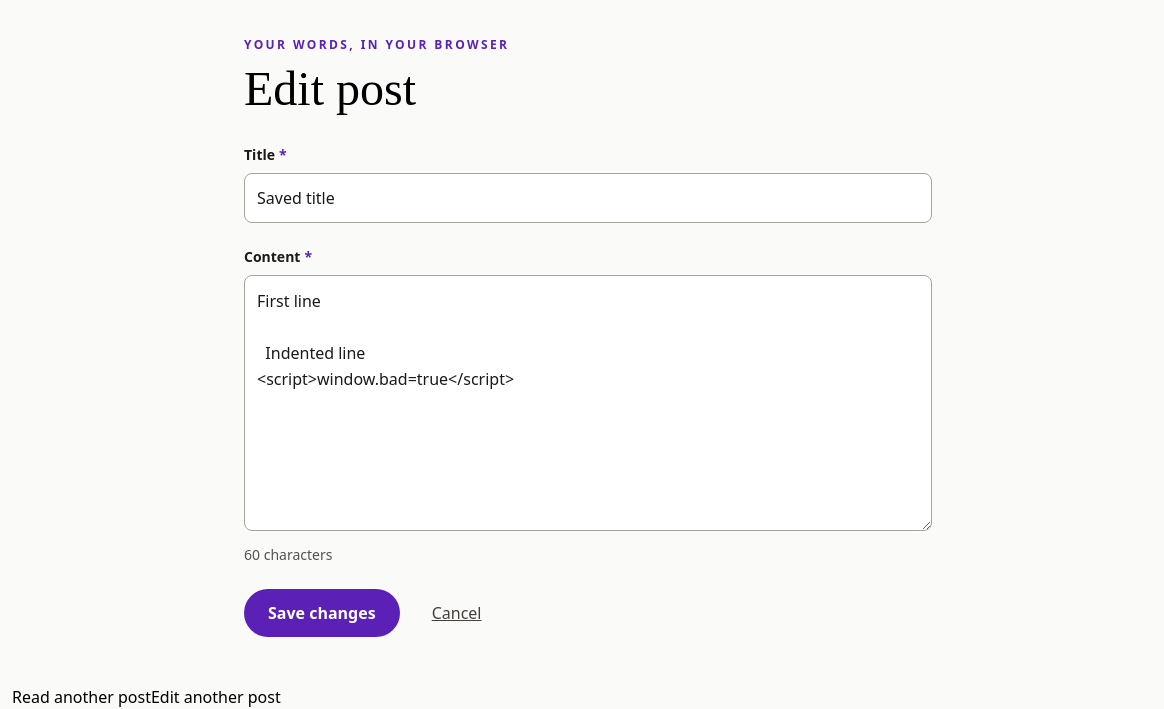
Test case: same-page route ID refresh › refreshes the editor target to ready and discards old draft/validation without writes
The image size is (1164, 709).
Clear the field labelled "Title*" at point(588, 198), box [244,173,932,223]
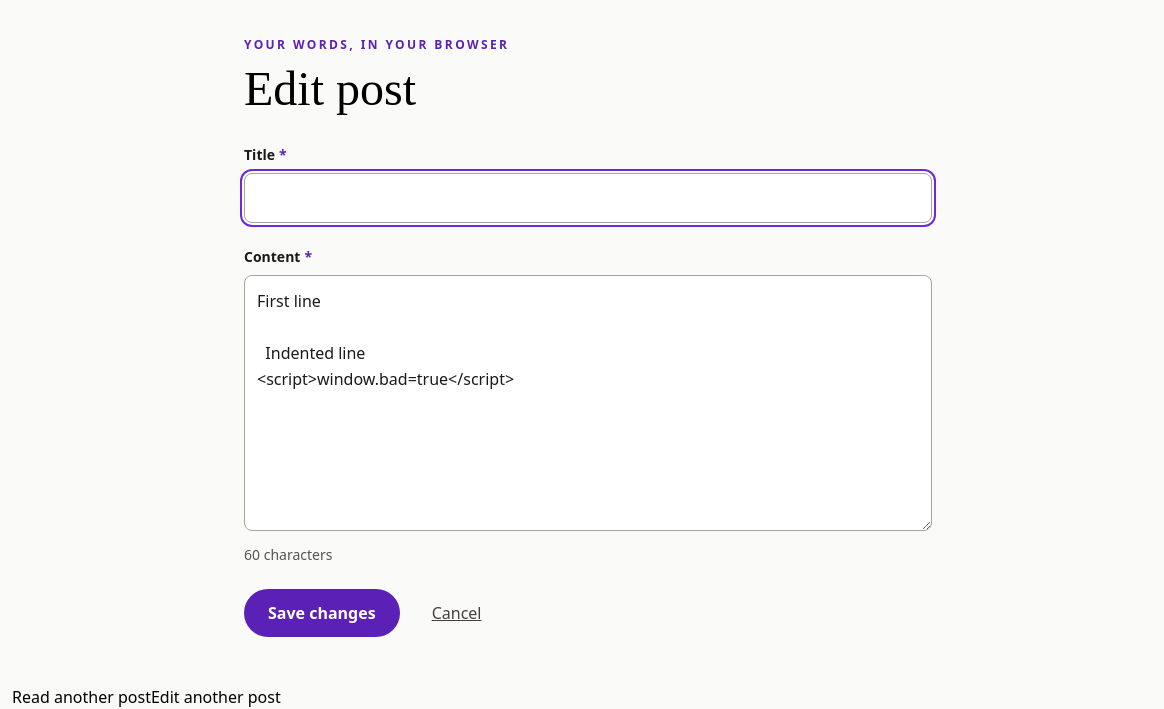
Click the button "Save changes" at point(322, 613), box [244,589,400,637]
(page scrolled)
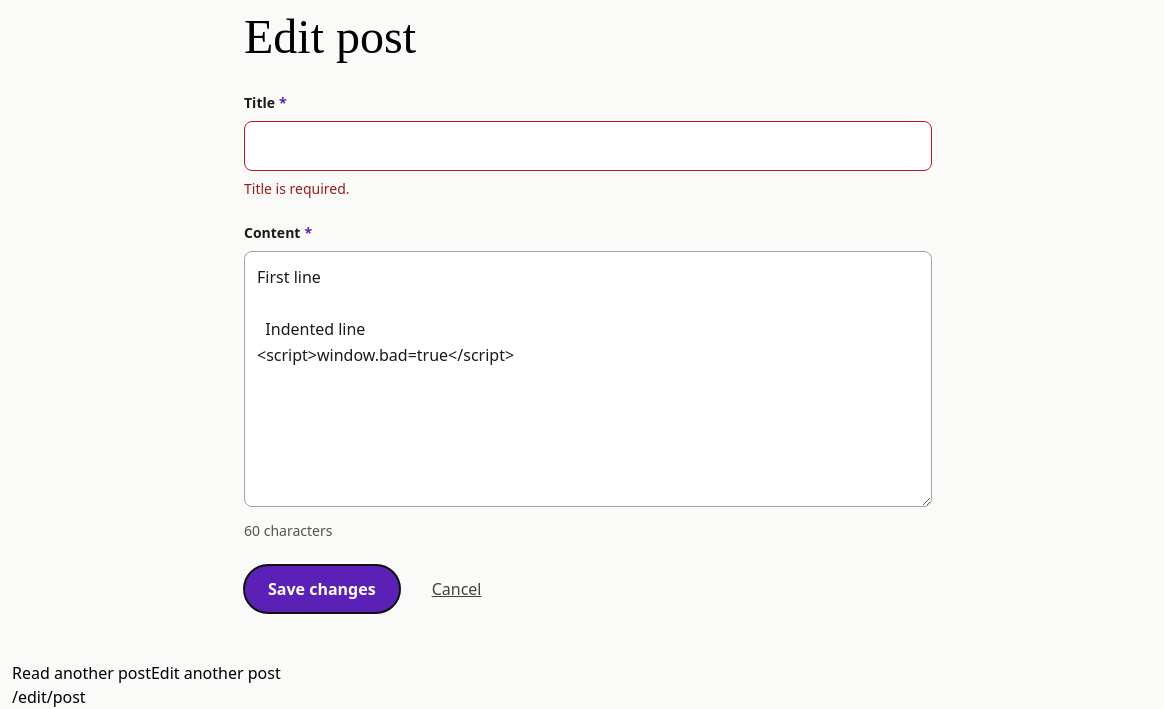
Expected: the text "Title is required." is shown, [244,179,350,198]
Click the link "Edit another post" at point(216, 673), box [151,662,281,684]
(page scrolled)
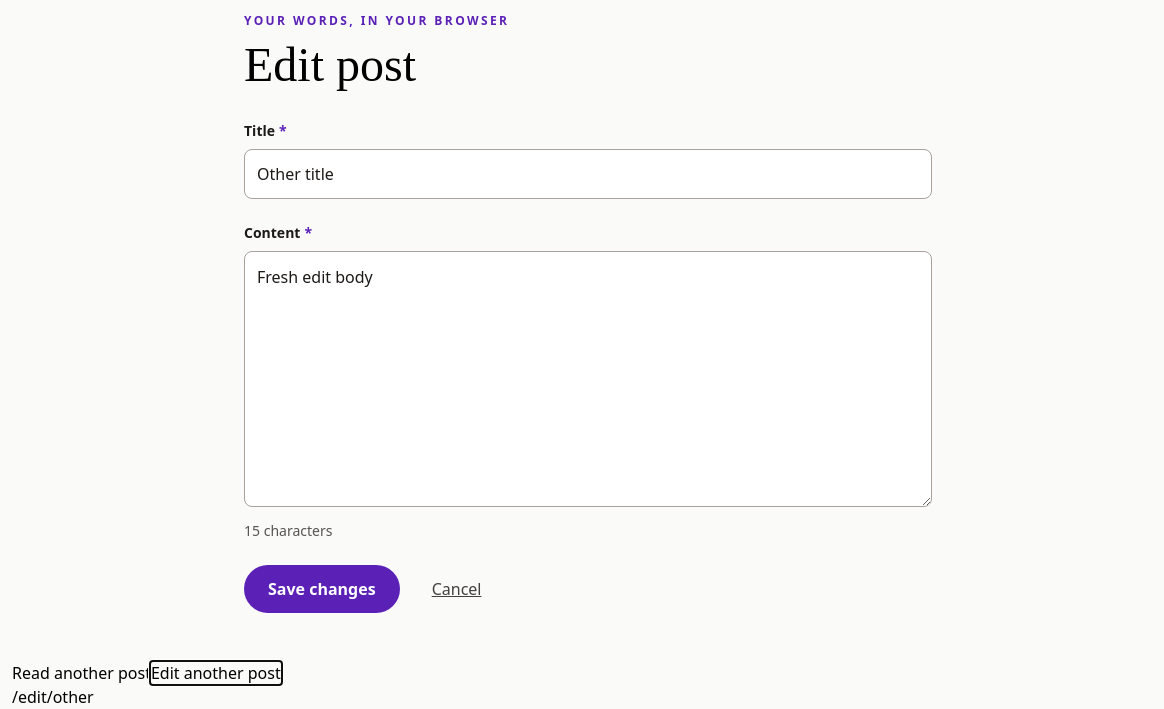
Expected: the text with test id "location" reads "/edit/other", [12,686,94,708]
Expected: the text "Title is required." is gone
Expected: the message "Title is required." is gone
